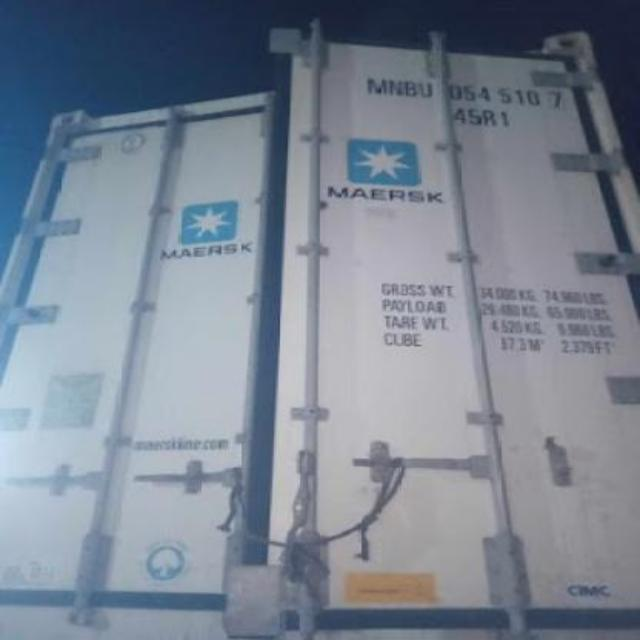0: (448, 83, 462, 101), (526, 89, 540, 107)
1: (514, 90, 530, 106)
4: (476, 84, 492, 102)
5: (498, 85, 512, 106), (464, 84, 476, 102)
7: (548, 90, 564, 108)
B: (404, 79, 418, 99)
M: (367, 78, 388, 96)
N: (388, 78, 404, 96)
U: (418, 81, 434, 101)
